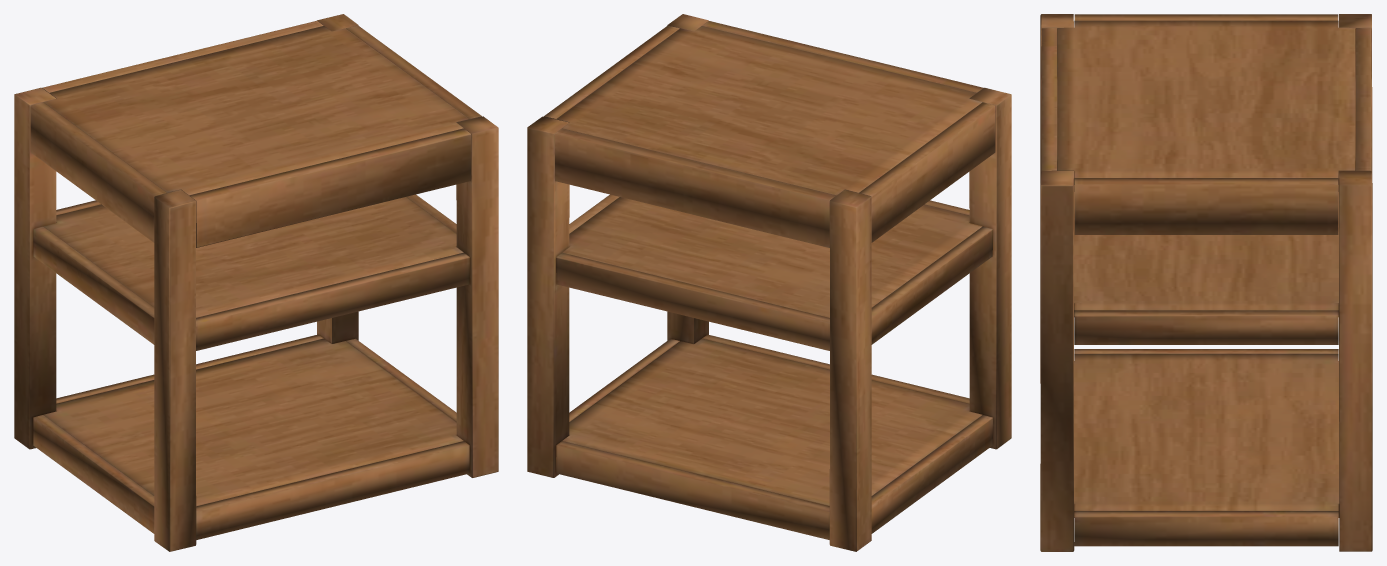
File: ph-side-table-oak-low.glb
3 renders of one model, left to right at view 1: azimuth 30°, elevation 25°; view 2: azimuth 150°, elevation 25°; view 3: azimuth 270°, elevation 25°, orthographic. The views are drawn at different scales.
Parts seen in each view (by area): view 1: side_table_01; view 2: side_table_01; view 3: side_table_01.
Part boxes in pixels (x1,y1,x2,y2): side_table_01: (14, 14, 498, 551); side_table_01: (527, 14, 1011, 551); side_table_01: (1040, 14, 1372, 551).
Bounding box in the file's own units: 0.55 × 0.5507 × 0.45.
1 material, 1 textured.
